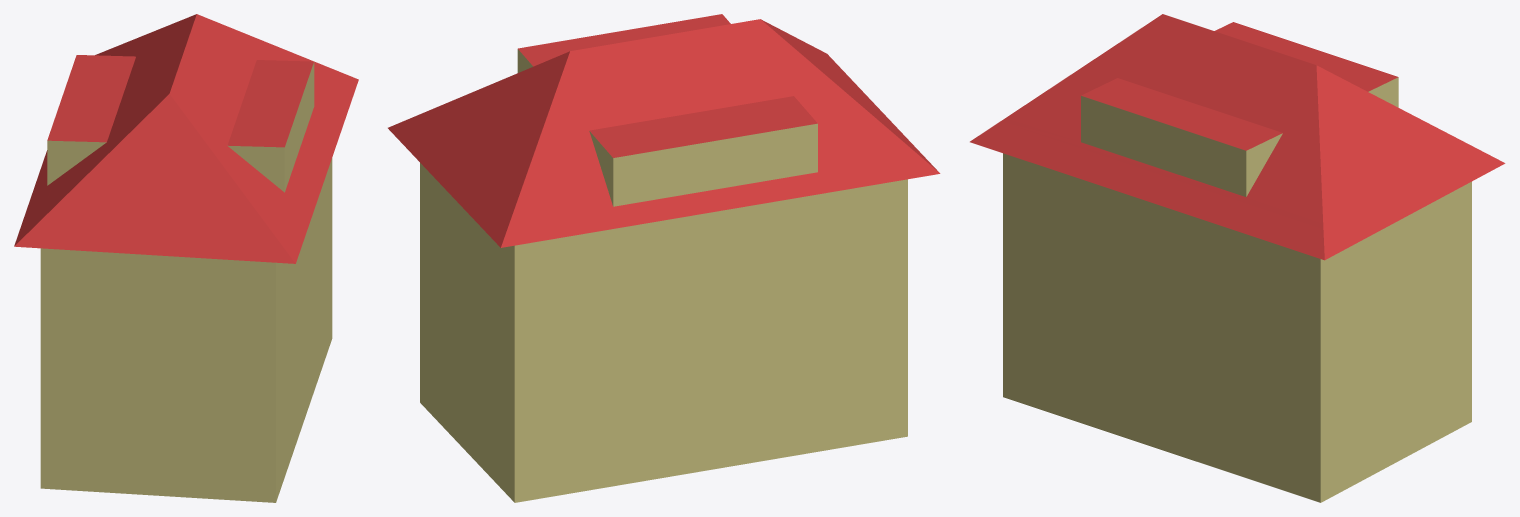
3 renders of one model, left to right at view 1: azimuth 30°, elevation 25°; view 2: azimuth 150°, elevation 25°; view 3: azimuth 270°, elevation 25°, orthographic. The views are drawn at different scales.
Visible parts, largest first — view 1: group_7, group_3, group_4, group_6, group_5; view 2: group_7, group_3, group_6, group_5, group_4; view 3: group_7, group_3, group_5, group_4, group_6.
Boxes of the visible parts, left/top/right/bottom form: group_7: left=40, top=158, right=332, bottom=502; group_3: left=14, top=14, right=358, bottom=263; group_4: left=47, top=55, right=313, bottom=147; group_6: left=14, top=55, right=357, bottom=263; group_5: left=47, top=62, right=314, bottom=192; group_7: left=420, top=163, right=907, bottom=502; group_3: left=388, top=19, right=940, bottom=247; group_6: left=389, top=51, right=939, bottom=247; group_5: left=517, top=49, right=817, bottom=206; group_4: left=518, top=14, right=817, bottom=157; group_7: left=1003, top=153, right=1471, bottom=502; group_3: left=970, top=14, right=1505, bottom=260; group_5: left=1081, top=77, right=1398, bottom=196; group_4: left=1081, top=22, right=1398, bottom=150; group_6: left=976, top=119, right=1503, bottom=258.
Bounding box in the file's own units: 15.93 × 16.77 × 12.72.
